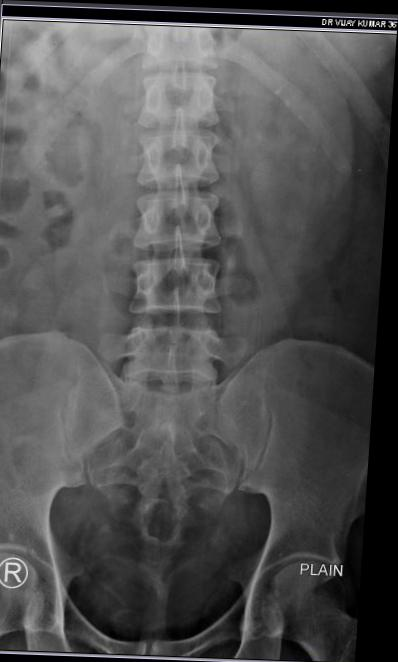vertebrae: (131, 64, 218, 122)
